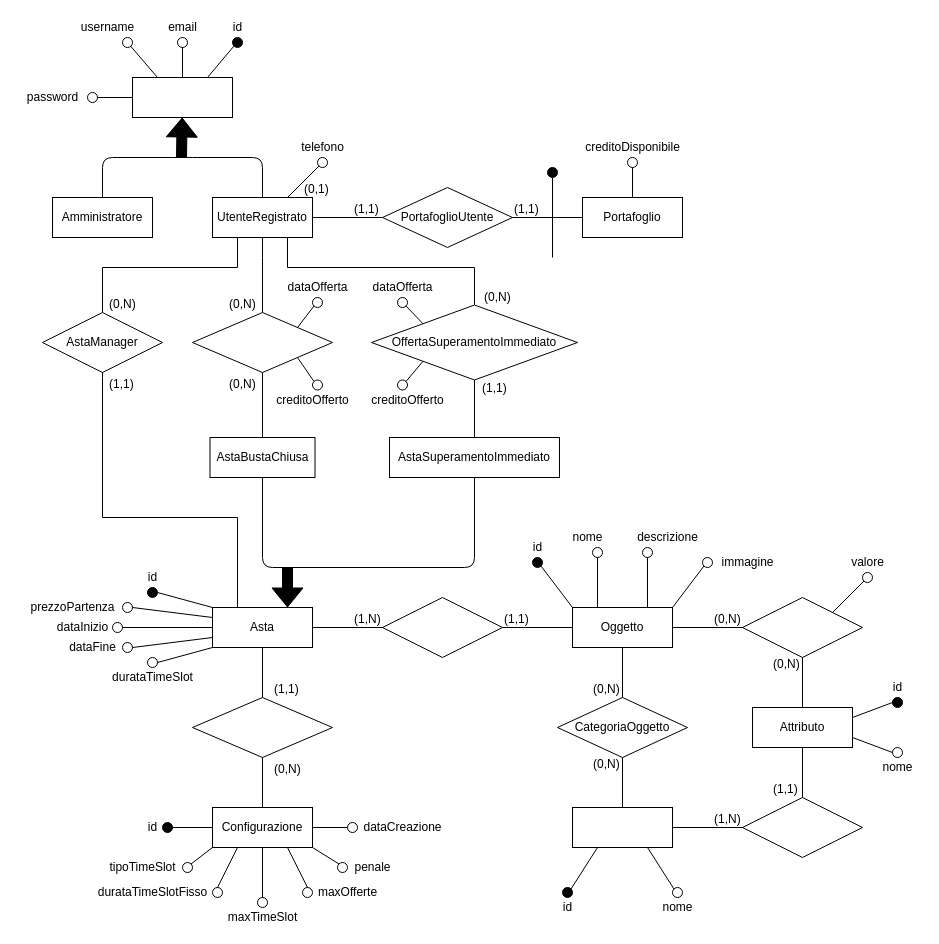
This 939x944 diagram has some shape labels left out. The shapes that lost their labels are listed below. From the top down, each one's centre as x and y in pixels, then its label:
the point at 182,97: Utente
the point at 262,342: OffertaBustaChiusa
the point at 442,627: Lotto
the point at 802,627: AttributoOggetto
the point at 262,727: ConfigurazioneAsta
the point at 622,827: Categoria
the point at 802,827: AttributoCategoria
